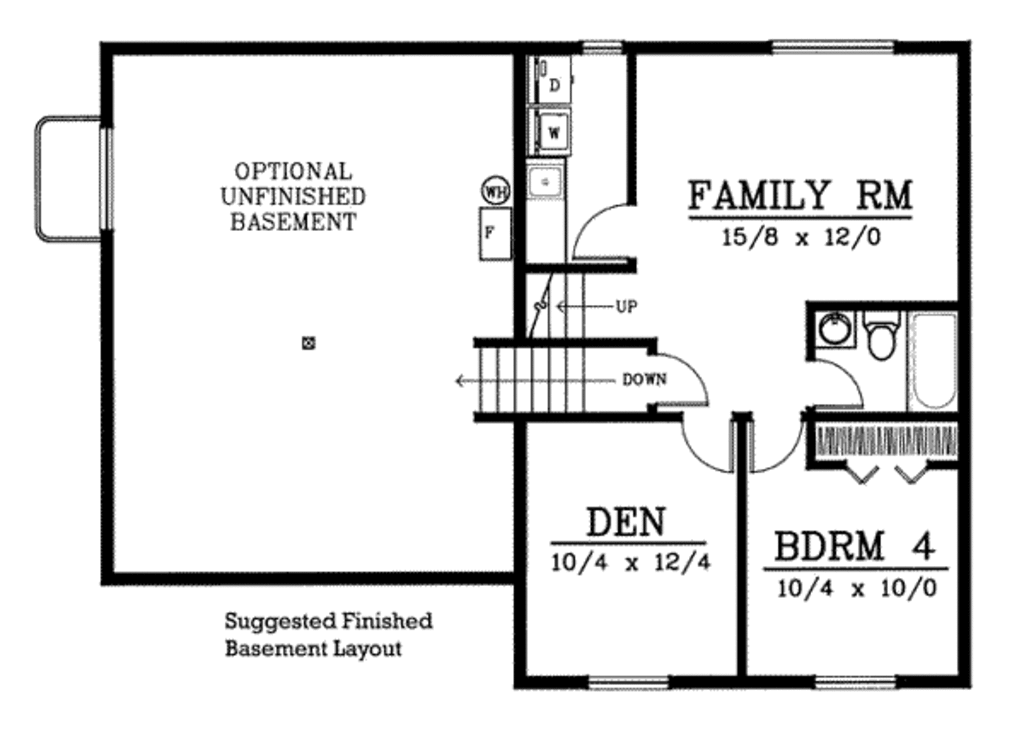door: (570, 194, 645, 263), (646, 344, 708, 407), (746, 415, 808, 473), (681, 412, 735, 469), (811, 357, 865, 408)
large_sink: (863, 308, 899, 360)
small_sink: (815, 310, 864, 352)
stairs: (471, 335, 649, 428), (517, 272, 650, 339)
tub: (911, 314, 957, 407)
window: (97, 122, 122, 230), (775, 39, 899, 60), (586, 670, 671, 696), (573, 36, 634, 61), (816, 672, 893, 690)
